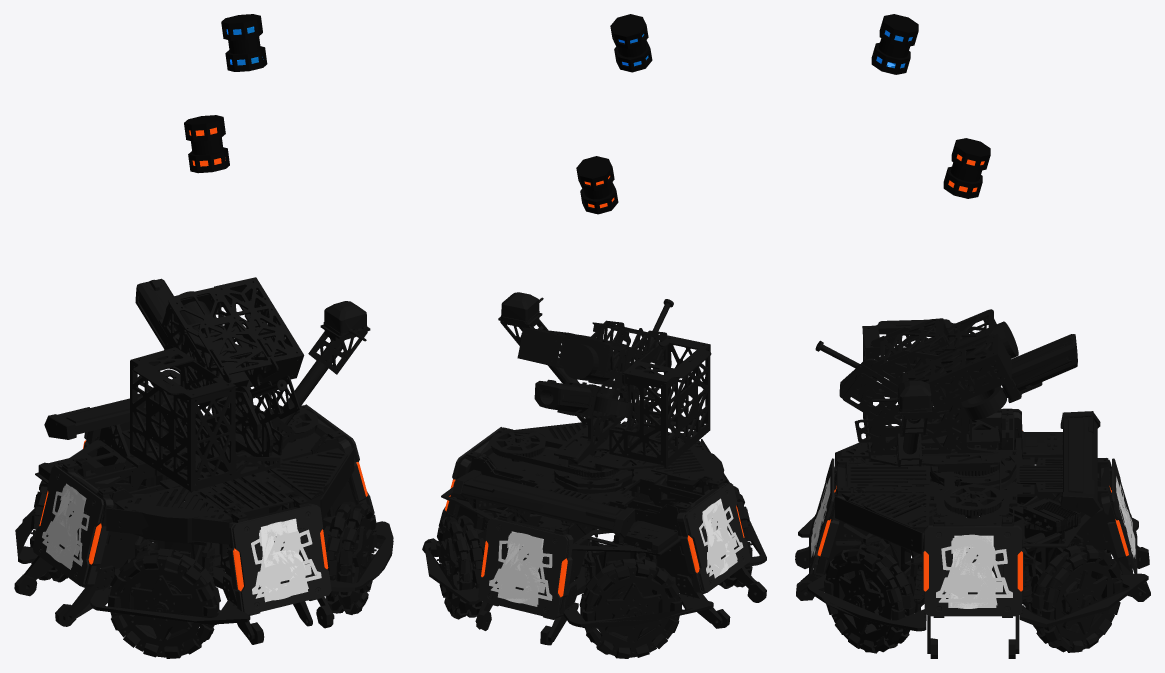
Rendered from vehicle.glb.
3 views of the same model, side by side, from view 1: azimuth 30°, elevation 25°; view 2: azimuth 150°, elevation 25°; view 3: azimuth 270°, elevation 25° (orthographic). The views are drawn at different scales.
Visible parts, largest first — view 1: CHASSIS, GIMBAL_MAIN, 2_ARMOR, 2_ARMOR_C, _ARMOR, 激光检测总装.002, 激光检测总装.001, _ARMOR_C, _ARMOR_BASE, 2B, 2_ARMOR_BASE, 3_ARMOR_BASE; view 2: CHASSIS, GIMBAL_MAIN, 1_ARMOR, 1_ARMOR_C, _ARMOR, 激光检测总装.001, 激光检测总装.002, _ARMOR_C, _ARMOR_BASE, 1B, 1_ARMOR_BASE, 3_ARMOR_BASE; view 3: CHASSIS, GIMBAL_MAIN, 3_ARMOR, 3_ARMOR_C, 激光检测总装.001, 激光检测总装.002, 3G, 3B, 2_ARMOR, 1_ARMOR, 1_ARMOR_BASE, 2_ARMOR_BASE (+1 smaller).
Part boxes in pixels (box(x1,y1,x2,y2)): CHASSIS: box(14, 390, 393, 658); GIMBAL_MAIN: box(130, 277, 370, 491); 2_ARMOR: box(232, 505, 331, 614); 2_ARMOR_C: box(258, 518, 311, 602); _ARMOR: box(32, 465, 103, 586); 激光检测总装.002: box(221, 14, 267, 71); 激光检测总装.001: box(184, 115, 229, 173); _ARMOR_C: box(46, 483, 86, 569); _ARMOR_BASE: box(39, 466, 113, 587); 2B: box(252, 531, 321, 594); 2_ARMOR_BASE: box(228, 503, 322, 615); 3_ARMOR_BASE: box(315, 419, 366, 504); CHASSIS: box(422, 422, 766, 658); GIMBAL_MAIN: box(498, 292, 711, 471); 1_ARMOR: box(478, 518, 568, 618); 1_ARMOR_C: box(496, 531, 545, 606); _ARMOR: box(685, 483, 750, 592); 激光检测总装.001: box(576, 156, 618, 214); 激光检测总装.002: box(610, 14, 652, 72); _ARMOR_C: box(702, 498, 737, 578); _ARMOR_BASE: box(676, 483, 744, 593); 1B: box(489, 540, 552, 600); 1_ARMOR_BASE: box(487, 517, 573, 619); 3_ARMOR_BASE: box(446, 441, 493, 518); CHASSIS: box(795, 408, 1150, 658); GIMBAL_MAIN: box(815, 309, 1077, 471); 3_ARMOR: box(924, 527, 1021, 616); 3_ARMOR_C: box(944, 534, 1002, 608); 激光检测总装.001: box(943, 138, 990, 198); 激光检测总装.002: box(871, 14, 918, 74); 3G: box(939, 540, 1007, 602); 3B: box(936, 545, 1012, 597); 2_ARMOR: box(809, 458, 834, 575); 1_ARMOR: box(1112, 458, 1137, 574); 1_ARMOR_BASE: box(1101, 460, 1136, 574); 2_ARMOR_BASE: box(810, 459, 845, 578).
Bounding box in the file's own units: 0.5185 × 0.897 × 0.4939.
23 materials, 1 textured.
